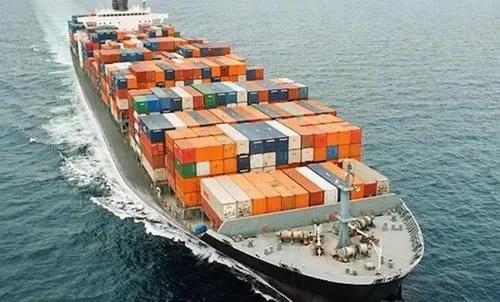Cargoship: (67, 1, 426, 294)
